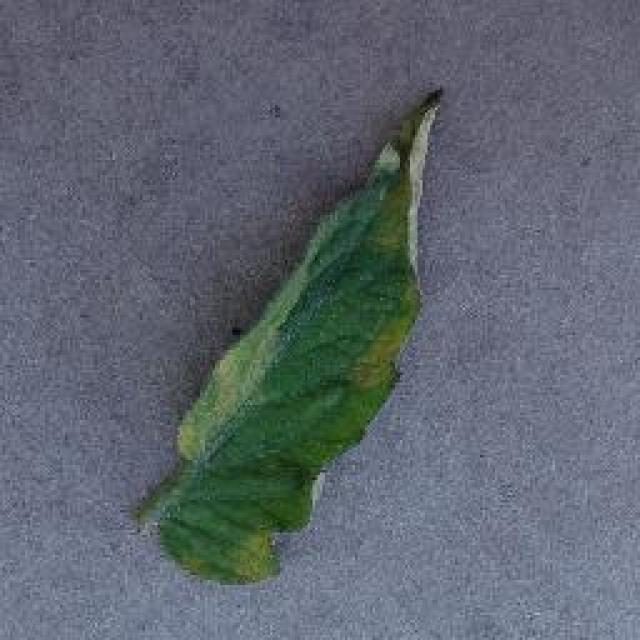leaf mold: (133, 89, 440, 586)
